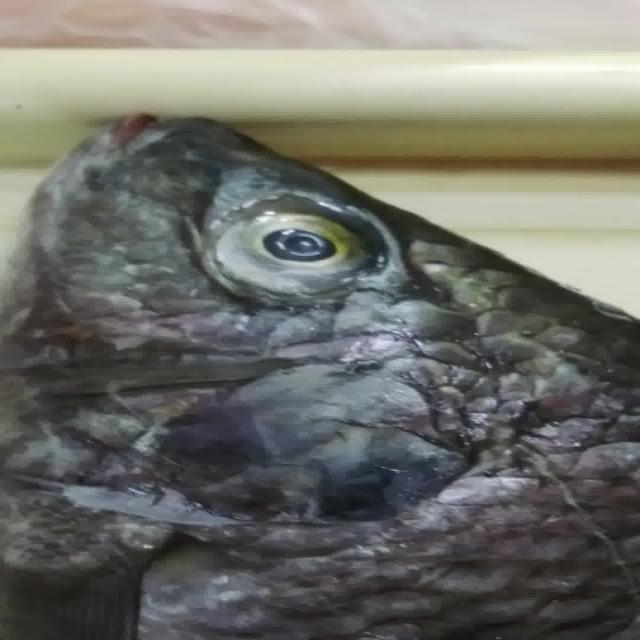Non-Fresh: (184, 168, 413, 323)
